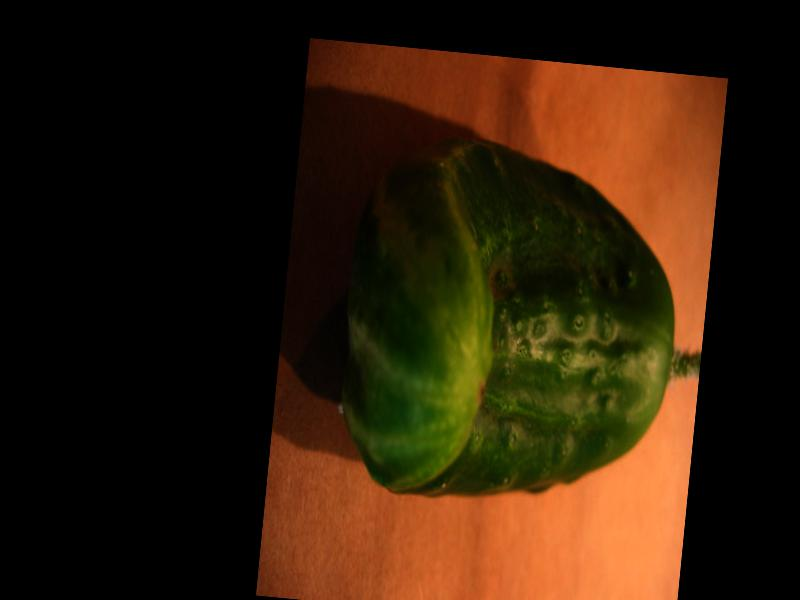Cucumber: (329, 132, 692, 522)
